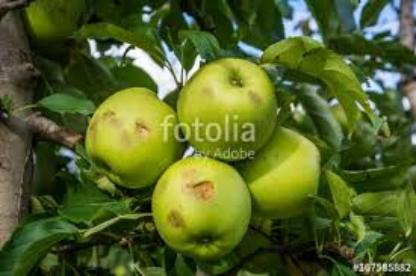defect: (157, 170, 249, 252), (100, 96, 160, 168)
